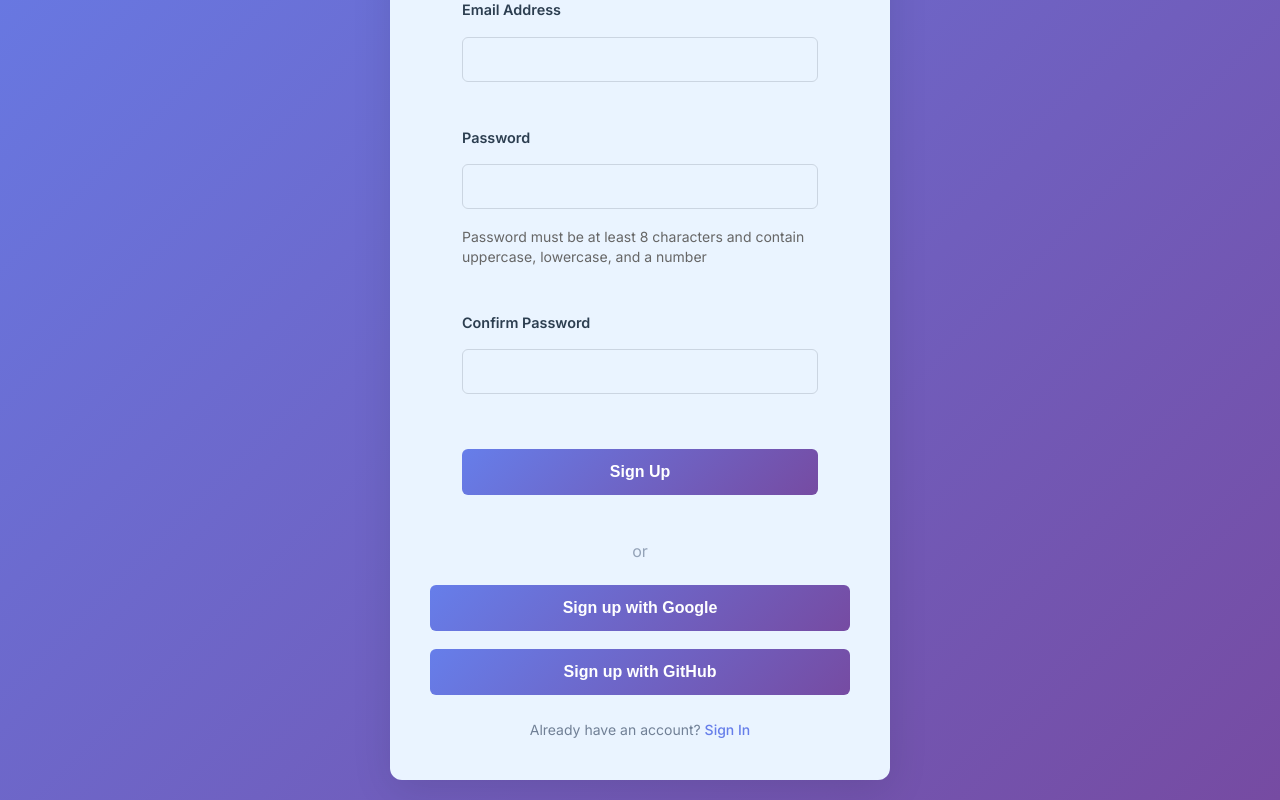
Test: Register › shows cancellation message when GitHub popup is closed
The width and height of the screenshot is (1280, 800).
(page scrolled)
Step 1. Click the button "Sign up with GitHub" → click(640, 672), box left=430, top=649, right=850, bottom=695
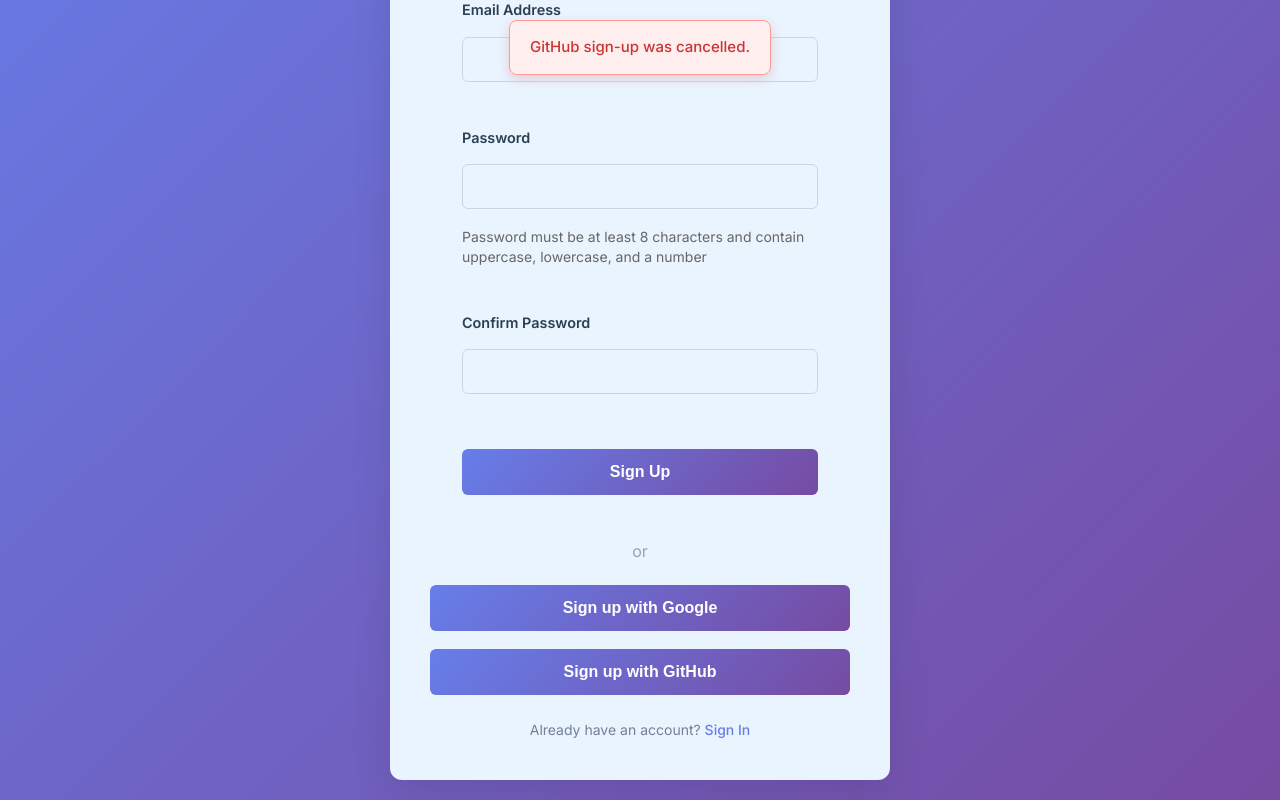
Check: the text "GitHub sign-up was cancelled." is shown, box left=509, top=20, right=771, bottom=74
